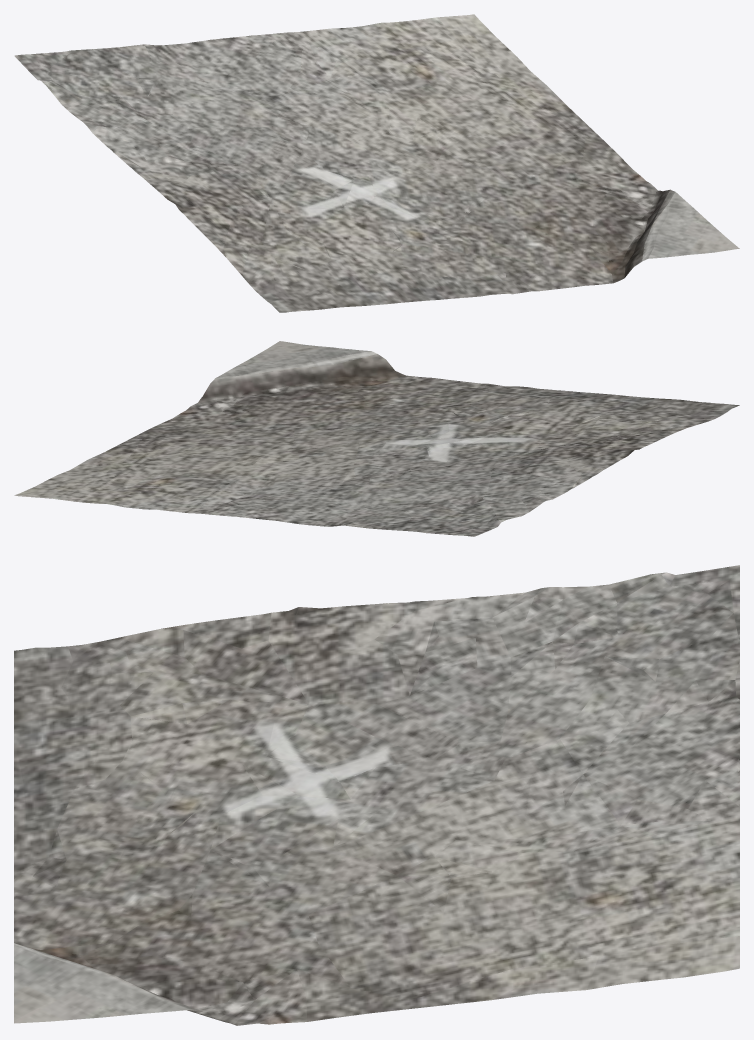
The picture shows the model from 3 angles, top to bottom: view 1: azimuth 30°, elevation 25°; view 2: azimuth 150°, elevation 25°; view 3: azimuth 270°, elevation 25°; orthographic projection. The views are drawn at different scales.
Size of the model in its own units: 0.8373 by 0.1997 by 0.8374.
Materials: 3 (3 with a texture image).
